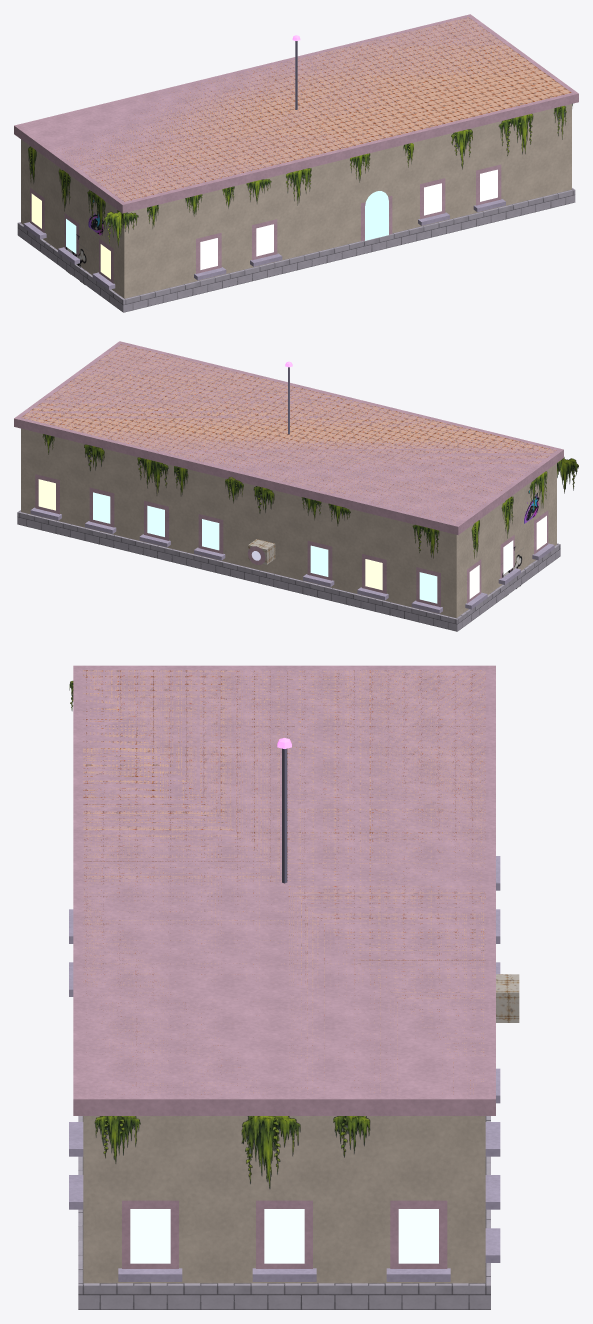
File: BUILDING_16.glb
The picture shows the model from 3 angles, top to bottom: view 1: azimuth 30°, elevation 25°; view 2: azimuth 150°, elevation 25°; view 3: azimuth 270°, elevation 25°; orthographic projection. The views are drawn at different scales.
Visible parts, largest first — view 1: B_AS_16_Skin, B_AS_16_Moss; view 2: B_AS_16_Skin, B_AS_16_Moss; view 3: B_AS_16_Skin, B_AS_16_Moss.
Boxes of the visible parts, x1,y1,x2,y2 form: B_AS_16_Skin: [14, 14, 578, 312]; B_AS_16_Moss: [28, 103, 572, 247]; B_AS_16_Skin: [14, 341, 563, 631]; B_AS_16_Moss: [42, 434, 578, 558]; B_AS_16_Skin: [69, 665, 519, 1309]; B_AS_16_Moss: [69, 680, 370, 1188].
Bounding box in the file's own units: 31.87 × 11.86 × 13.57.
12 materials, 6 textured.
